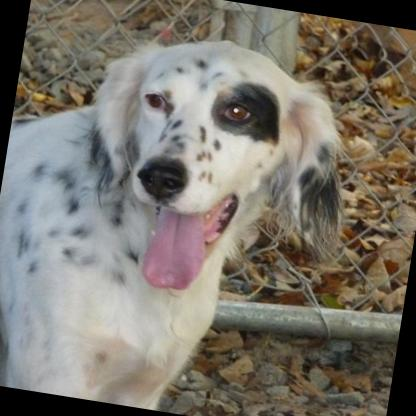English_setter: (0, 6, 371, 416)
